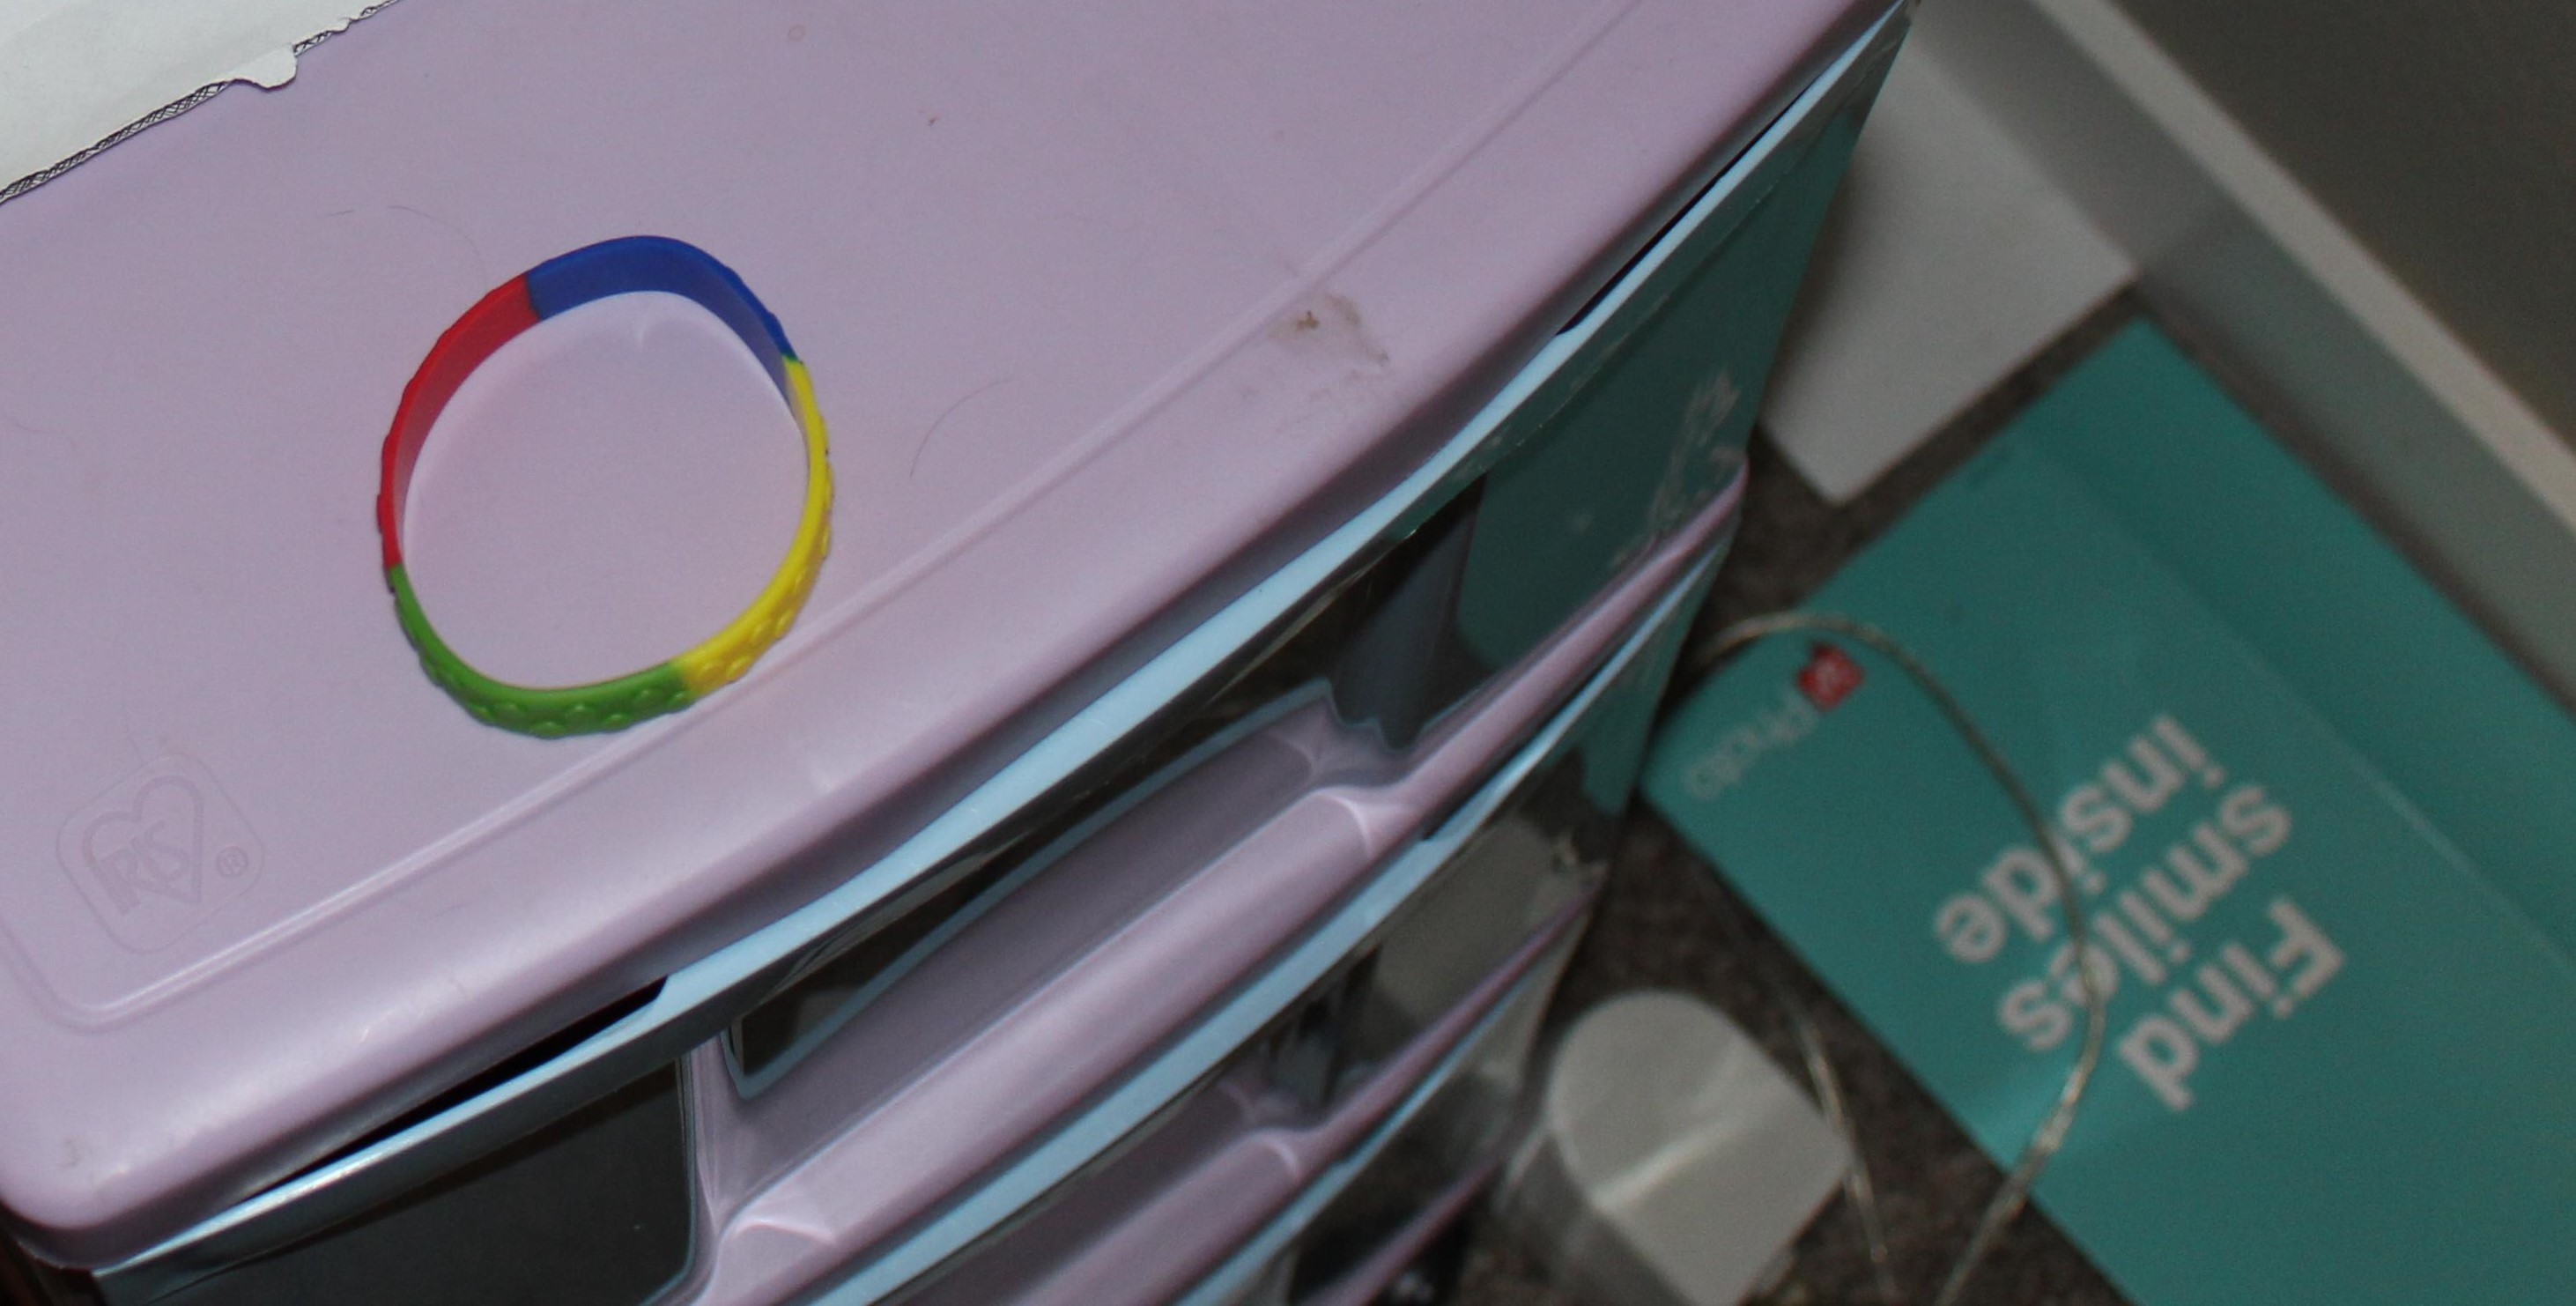legoBracelet: (336, 207, 859, 773)
